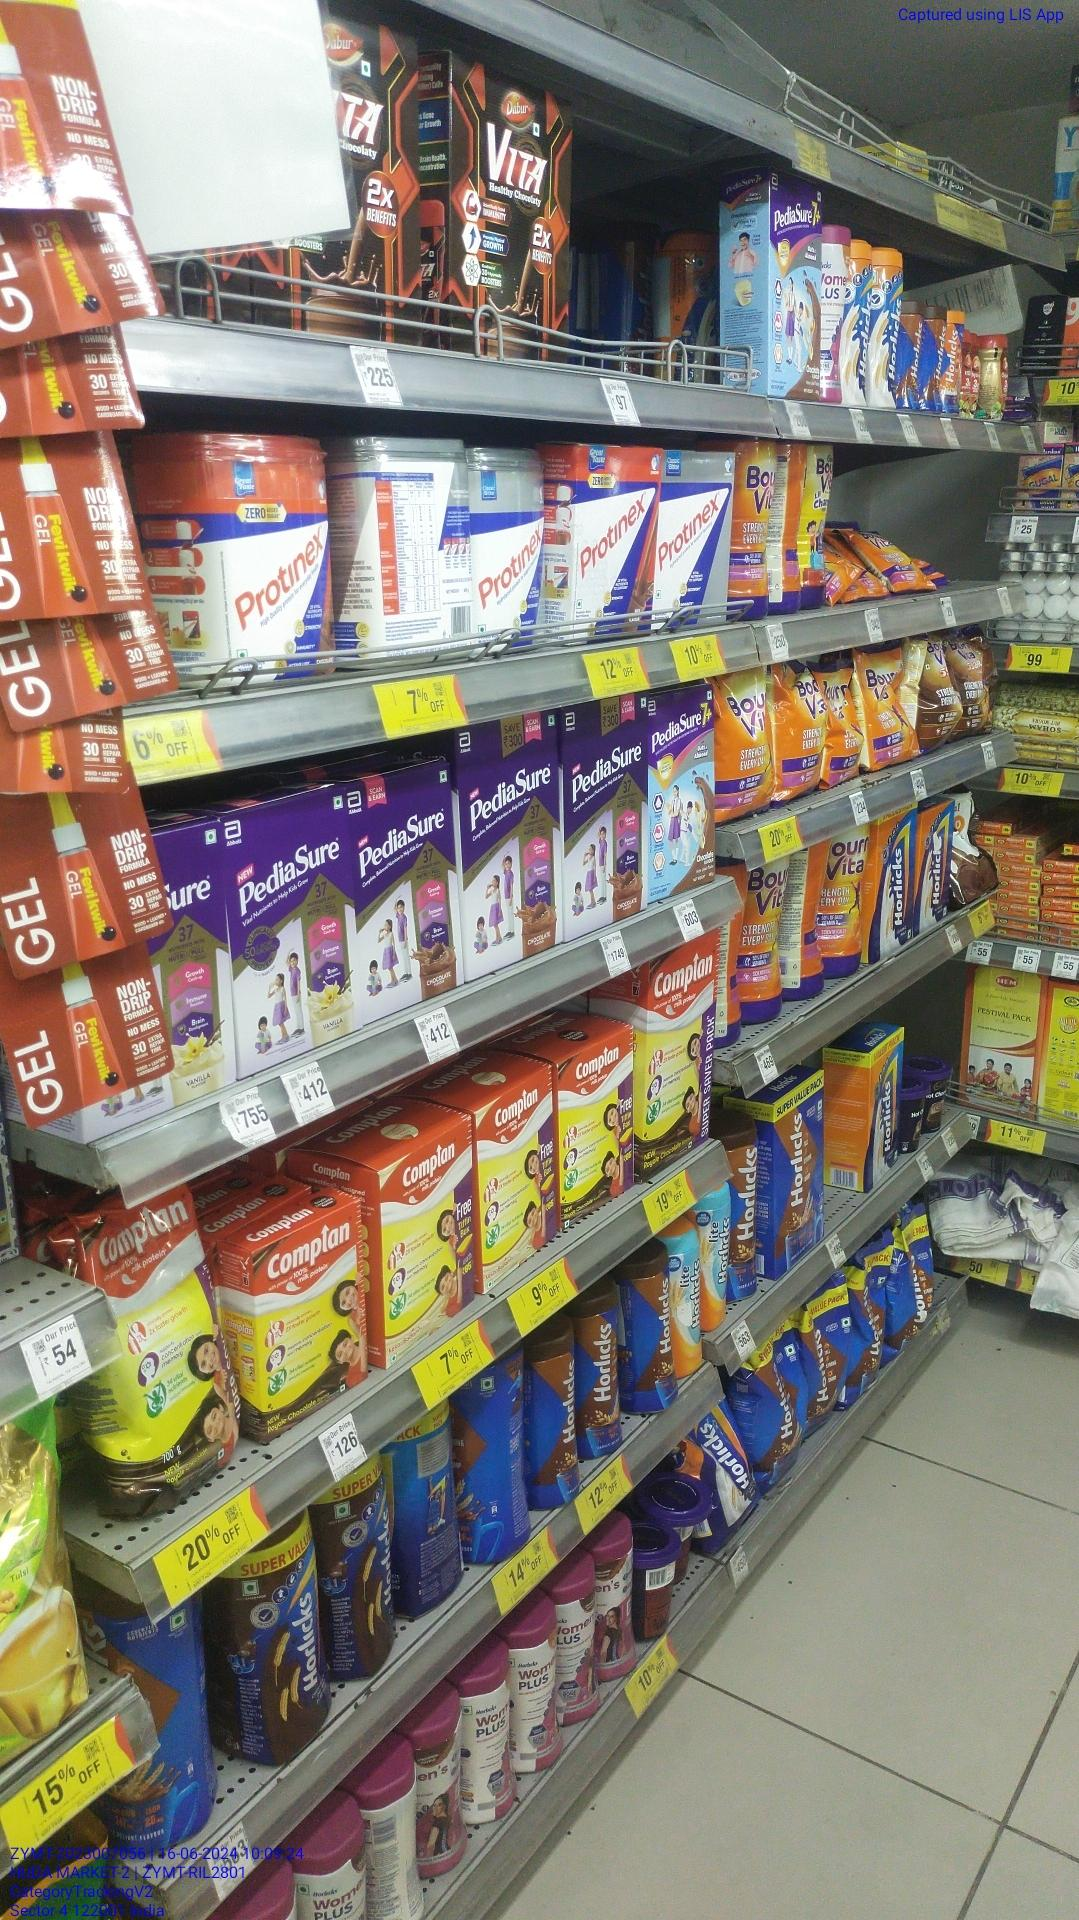PEDIASURE_7_PLUS_CHOCOLATE_400_G_PACK: (644, 682, 718, 911)
PEDIASURE_CHOCOLATE_500_G_PACK: (463, 696, 562, 988), (355, 749, 451, 1022), (561, 700, 641, 935)
PEDIASURE_VANILLA_500_G_PACK: (233, 787, 351, 1072)
PROTINEX_CHOCOLATE_400_G_JAR: (185, 439, 331, 692)
PROTINEX_ORIGINAL_400_G_JAR: (464, 436, 550, 644)
